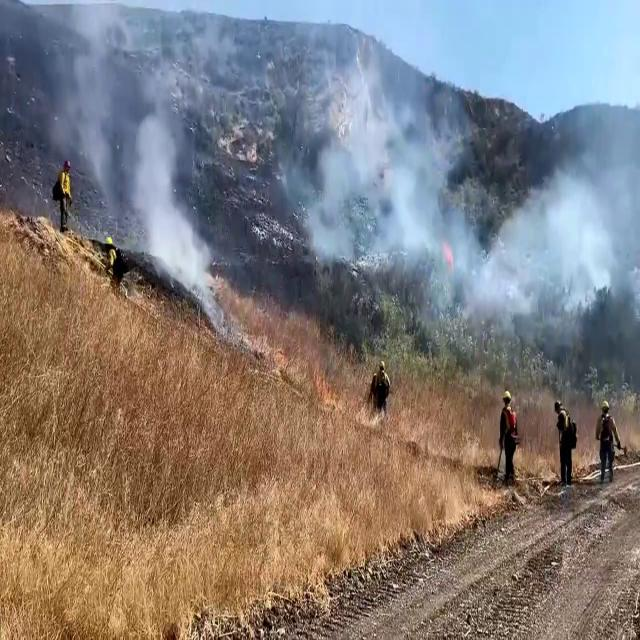Smoke: (297, 41, 640, 328), (51, 0, 218, 316)
